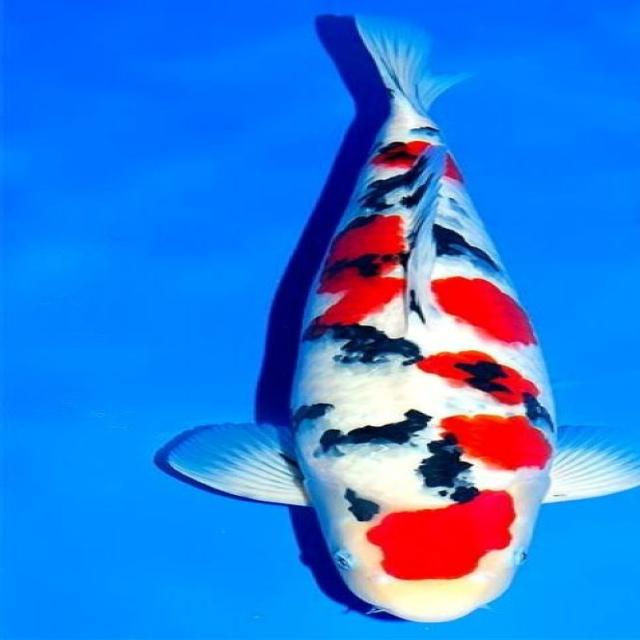Sanke: (152, 11, 638, 624)
